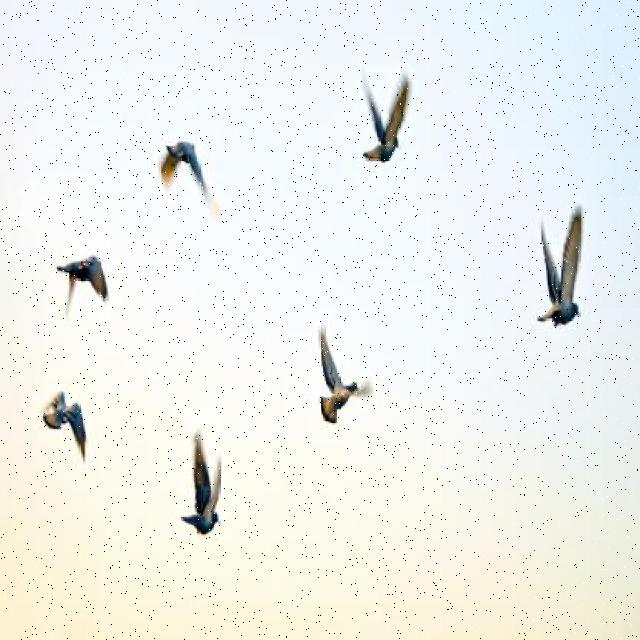bird: (318, 320, 374, 425), (538, 205, 584, 328), (158, 141, 222, 224), (360, 67, 412, 164), (181, 427, 221, 536), (38, 391, 87, 467), (57, 256, 109, 318)
